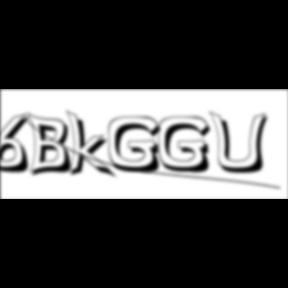6: (0, 112, 36, 176)
B: (28, 111, 78, 179)
G: (158, 116, 218, 176), (109, 116, 168, 176)
U: (208, 110, 274, 176)
k: (65, 108, 118, 181)
